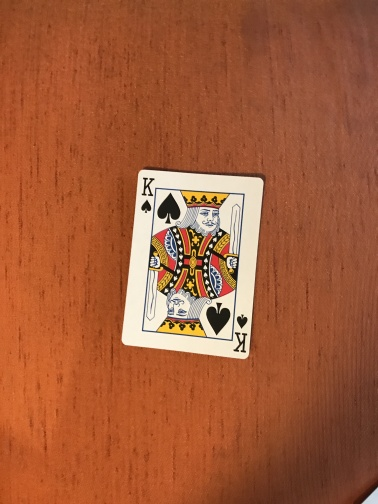king: (120, 169, 265, 362)
